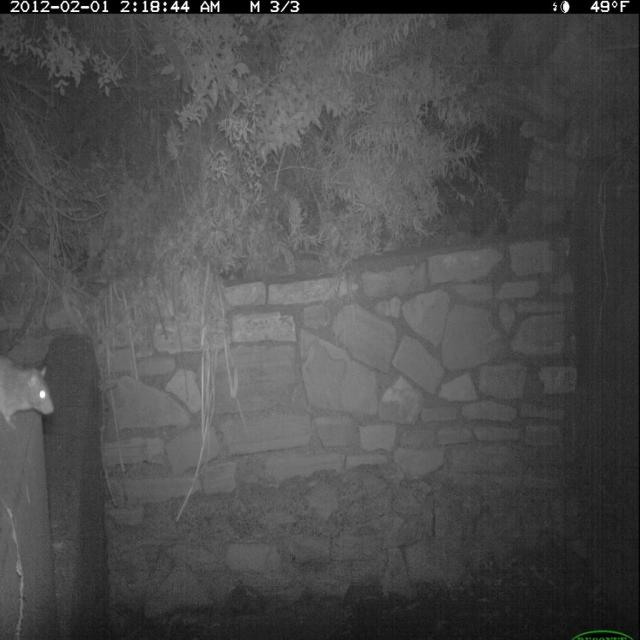rodent: (1, 345, 60, 436)
